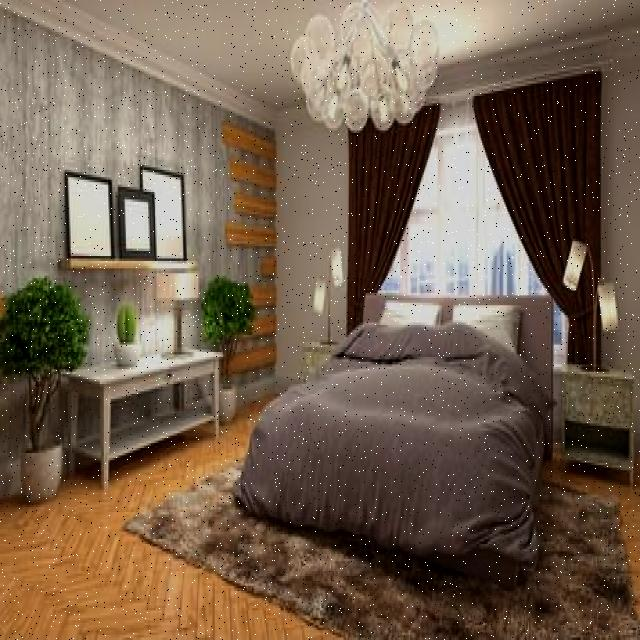bed: (249, 282, 559, 538)
